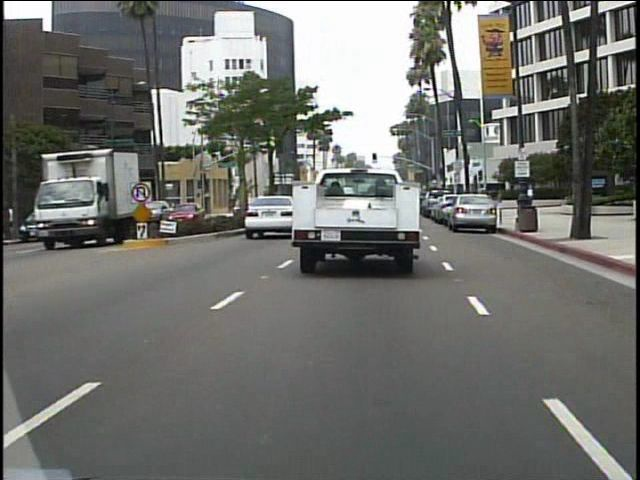person: (581, 178, 599, 222)
